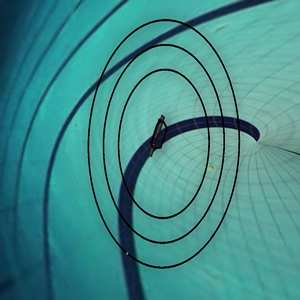circle: (77, 12, 258, 283)
submarine: (141, 106, 180, 162)
